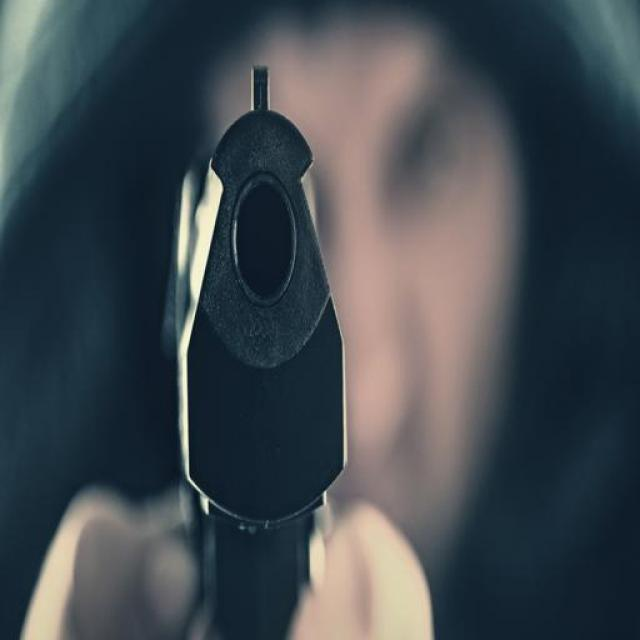pistol: (176, 65, 344, 640)
